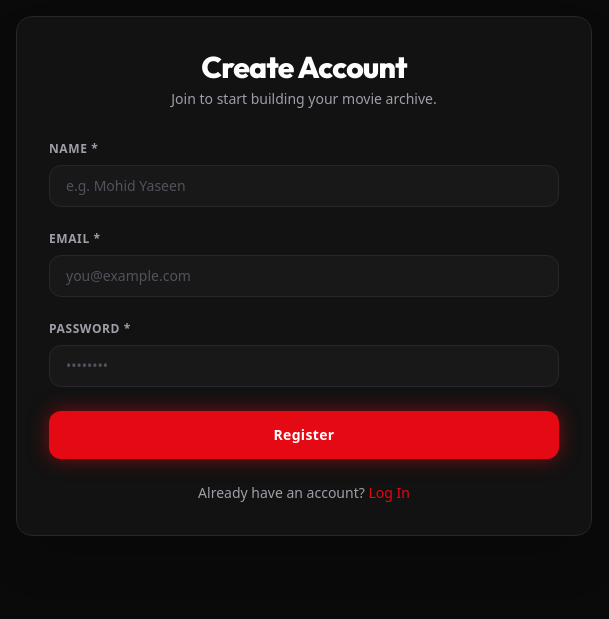
RegisterForm › falls back to a generic message when the error is not an Error
Type "Jane Doe" into the field with placeholder "e.g. Mohid Yaseen" at (304, 186), box [49,165,559,207]
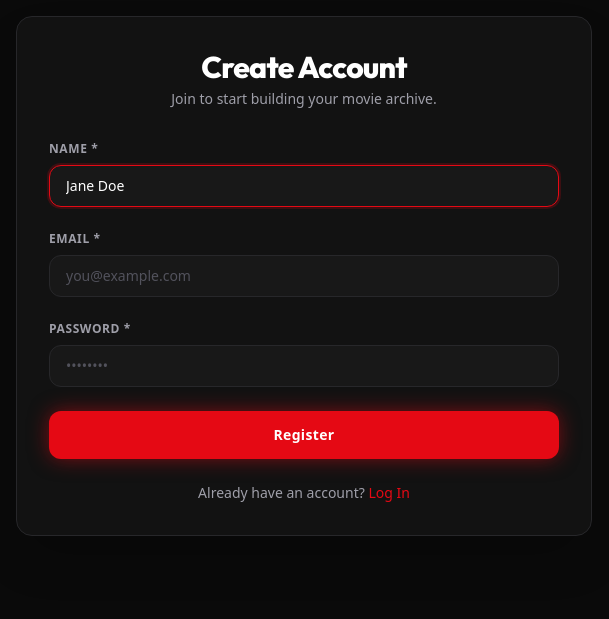
Type "jane@example.com" into the field with placeholder "you@example.com" at (304, 276), box [49,255,559,297]
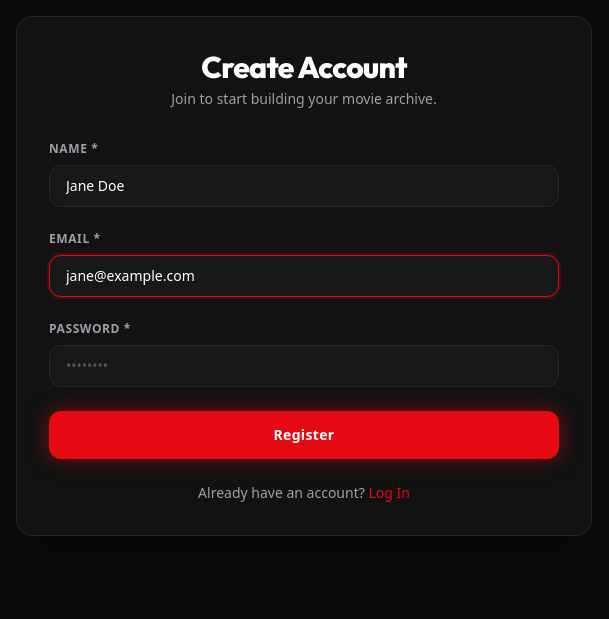
Type "secret123" into the password field with placeholder "••••••••" at (304, 366), box [49,345,559,387]
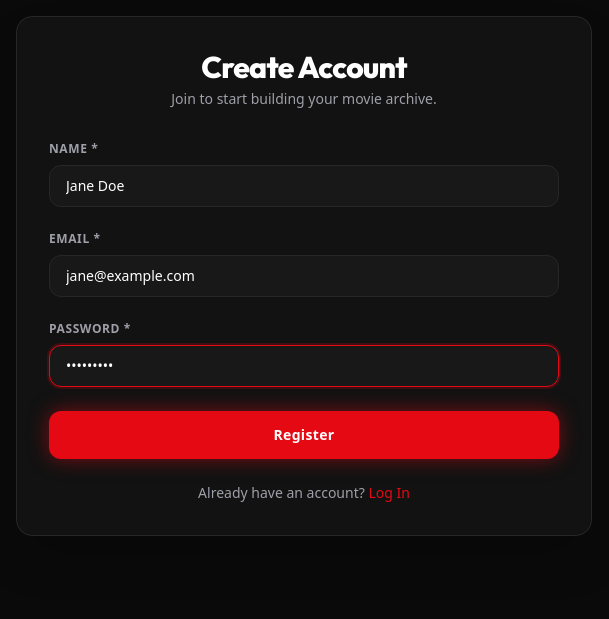
Click the button "Register" at (304, 435), box [49,411,559,459]
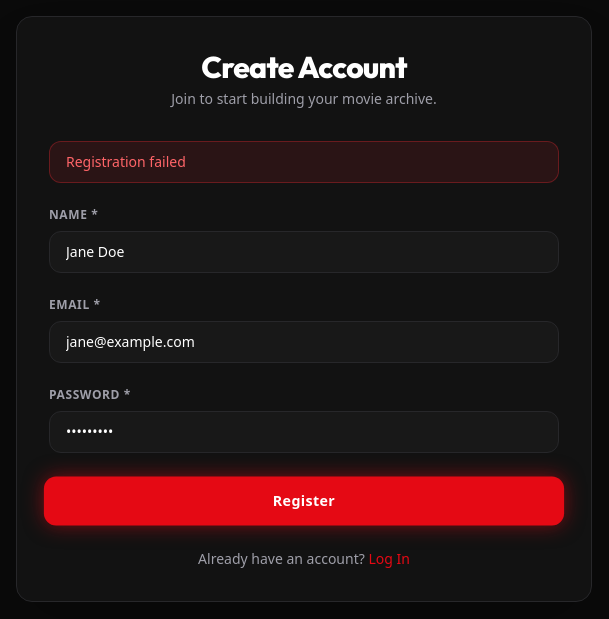
Expected: the text "Registration failed" is shown, [49,141,559,183]
